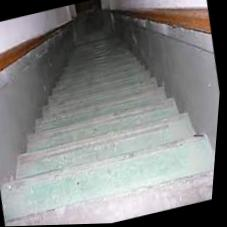Animal: (36, 20, 186, 196)
